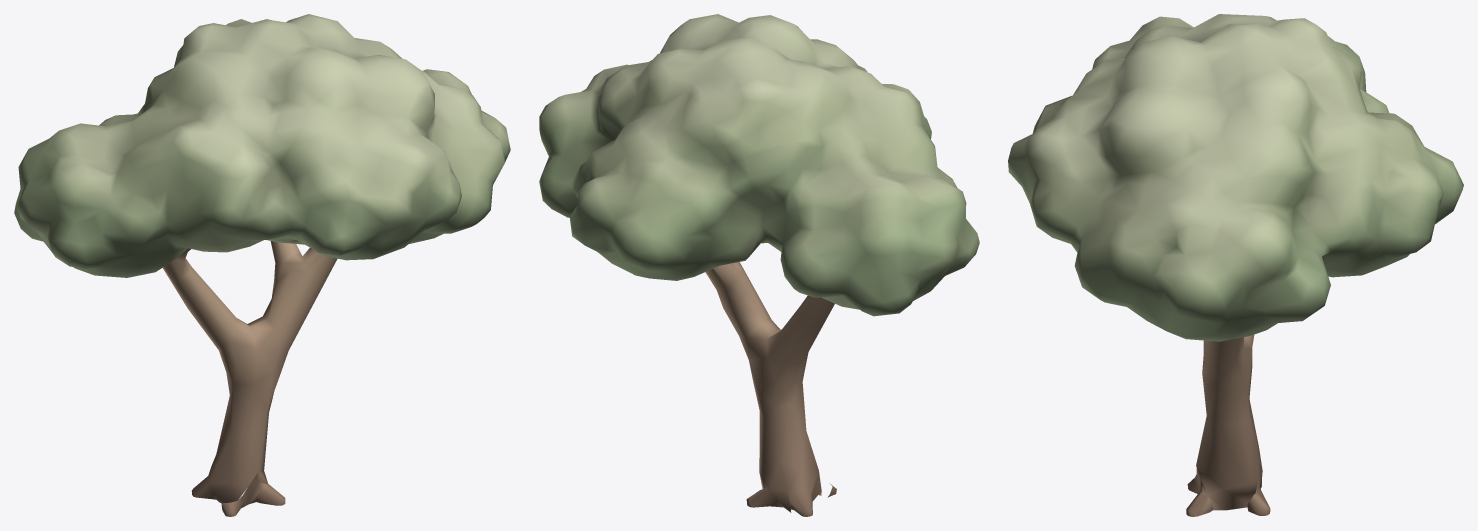
File: tree-oak-b.glb
The picture shows the model from 3 angles, left to right: view 1: azimuth 30°, elevation 25°; view 2: azimuth 150°, elevation 25°; view 3: azimuth 270°, elevation 25°; orthographic projection. The views are drawn at different scales.
Visible parts, largest first — view 1: tree-oak-b; view 2: tree-oak-b; view 3: tree-oak-b.
Part boxes in pixels (<box>): tree-oak-b: <box>14,14,510,516</box>; tree-oak-b: <box>539,14,979,516</box>; tree-oak-b: <box>1008,14,1463,516</box>.
Size of the model in its own units: 4.25 by 4.19 by 3.49.
